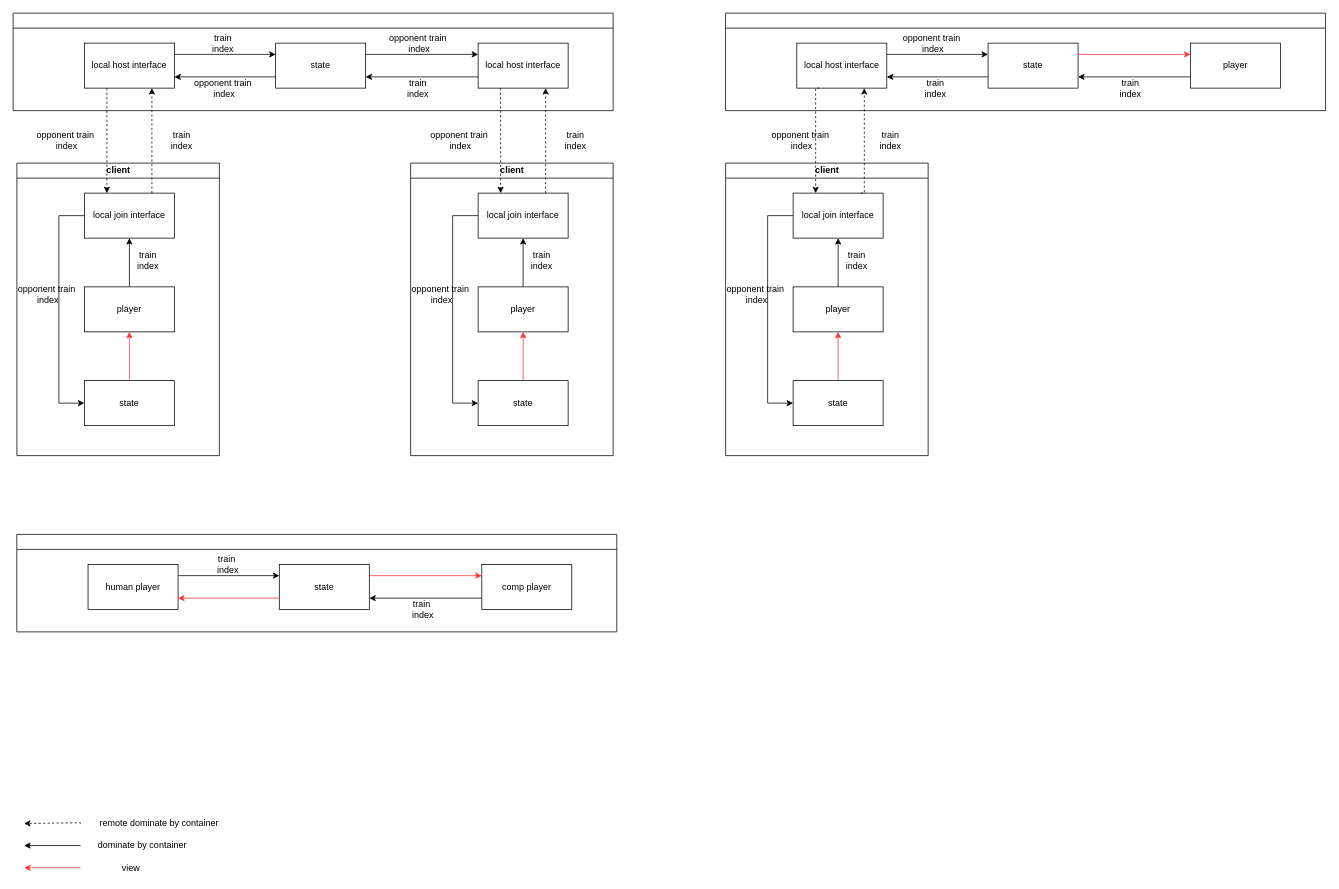
This 1339x889 diagram has some shape labels left out. Each missing label, with the box of its shape:
host client: (725, 12, 1326, 111)
local client: (16, 534, 617, 632)
server: (12, 12, 613, 111)
